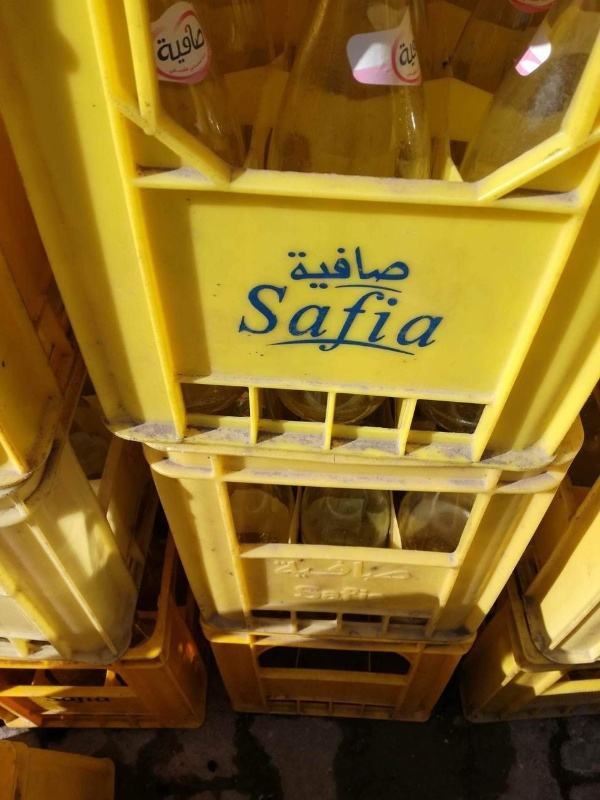text: (257, 281, 272, 372), (273, 281, 288, 372), (289, 281, 304, 372), (305, 281, 320, 372), (321, 281, 336, 372), (337, 281, 352, 372), (353, 281, 368, 372), (369, 281, 384, 372), (385, 281, 400, 372), (401, 281, 416, 372), (417, 281, 432, 372), (433, 281, 448, 372), (242, 281, 256, 372), (161, 17, 176, 76), (177, 17, 192, 76), (193, 17, 208, 76), (449, 281, 458, 372), (289, 244, 304, 292), (305, 244, 320, 292), (321, 244, 336, 292), (337, 244, 352, 292), (353, 244, 368, 292), (369, 244, 384, 292), (385, 244, 400, 292), (401, 244, 415, 292), (401, 34, 416, 73), (177, 49, 192, 84), (193, 49, 208, 84), (152, 17, 160, 76), (279, 244, 288, 292), (273, 556, 288, 584), (289, 556, 304, 584), (305, 556, 320, 584), (321, 556, 336, 584), (337, 556, 352, 584), (353, 556, 368, 584), (369, 556, 384, 584), (385, 556, 400, 584), (305, 582, 320, 607), (321, 582, 336, 607), (337, 582, 352, 607), (353, 582, 368, 607), (369, 582, 384, 607), (401, 556, 414, 584), (166, 49, 176, 84), (293, 582, 304, 607), (393, 34, 400, 73), (417, 34, 424, 73), (407, 63, 416, 82), (49, 694, 64, 705), (65, 694, 80, 705), (81, 694, 96, 705), (97, 694, 112, 705), (209, 49, 213, 84), (385, 582, 389, 607), (417, 63, 421, 82), (209, 17, 210, 76), (45, 694, 48, 705)
